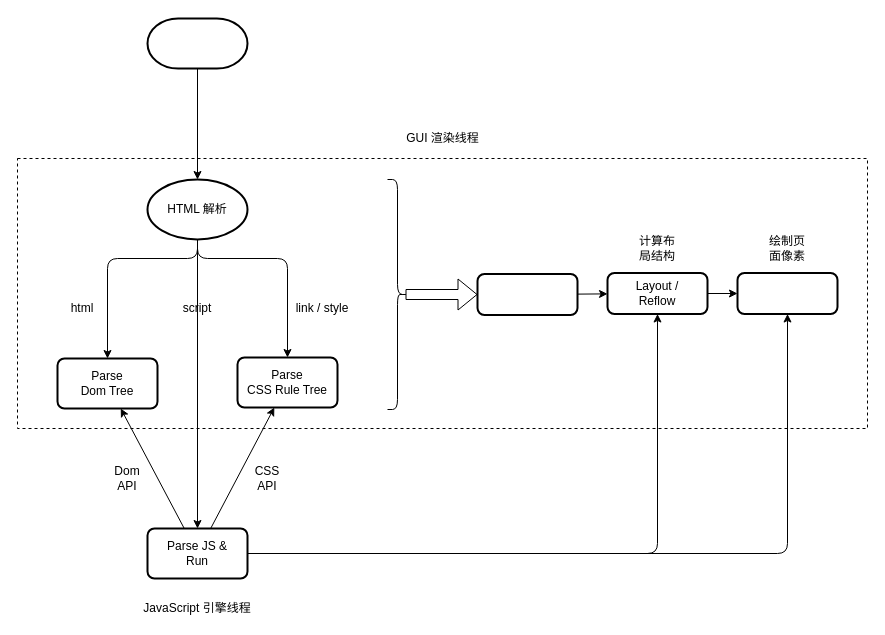
The diagram is 885 pixels wide and 635 high, and some of its shapes have lost their labels. Each missing label, with the centre of its shape:
Paint: [787,293]
Render Tree: [527,294]
浏览器 Tab 页: [197,43]
